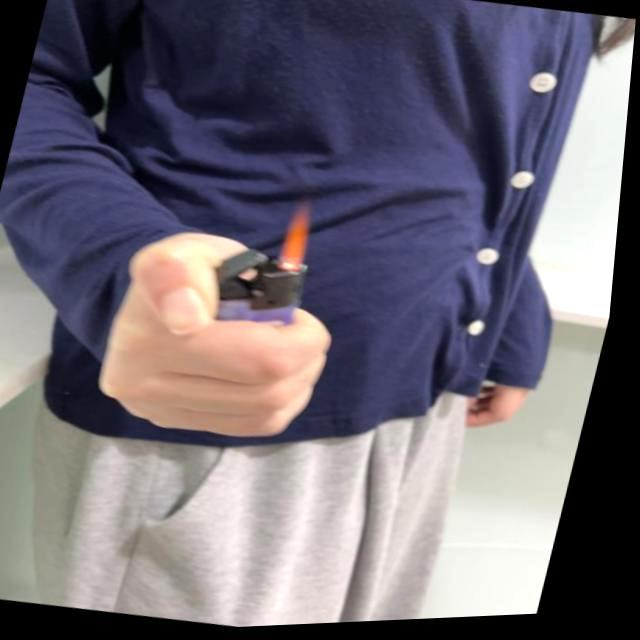fire: (278, 202, 324, 274)
